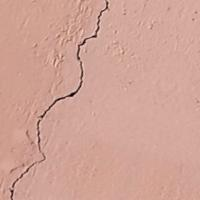crack: (5, 0, 114, 199)
